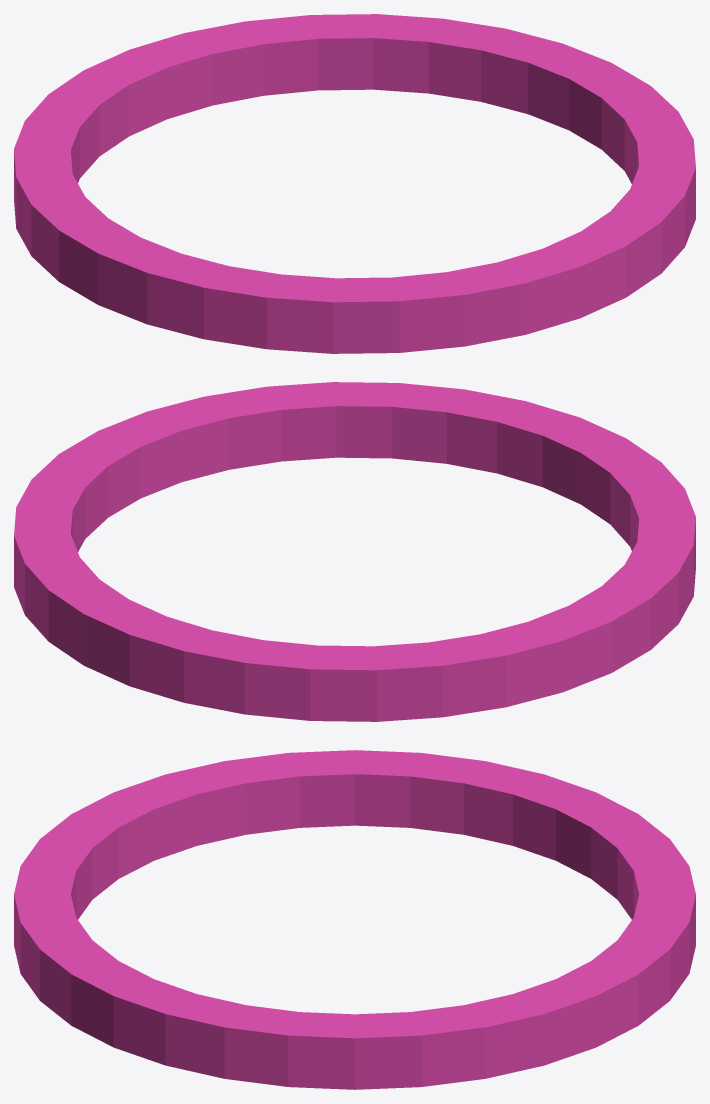
File: Arc05.glb
3 views of the same model, one above another, from view 1: azimuth 30°, elevation 25°; view 2: azimuth 150°, elevation 25°; view 3: azimuth 270°, elevation 25° (orthographic).
Visible parts, largest first — view 1: Arc.05; view 2: Arc.05; view 3: Arc.05.
Part boxes in pixels (left/top/right/bottom): Arc.05: left=14, top=14, right=695, bottom=353; Arc.05: left=14, top=382, right=695, bottom=721; Arc.05: left=14, top=750, right=695, bottom=1089.
Size of the model in its own units: 12 by 1 by 12.
